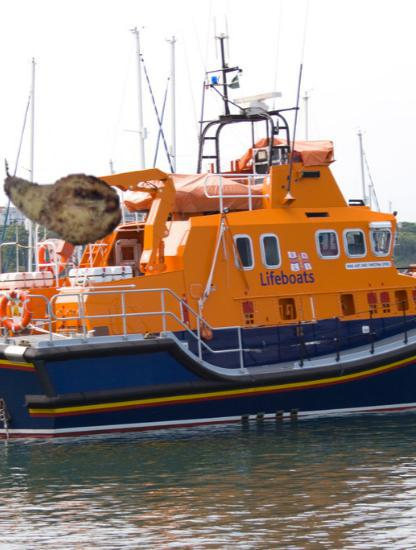Pear: (3, 141, 123, 261)
